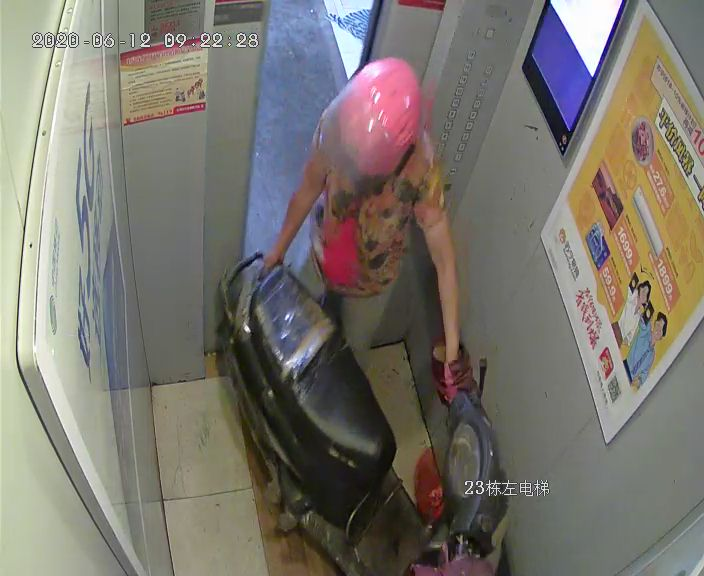Electric-bicycle: (219, 252, 505, 572)
